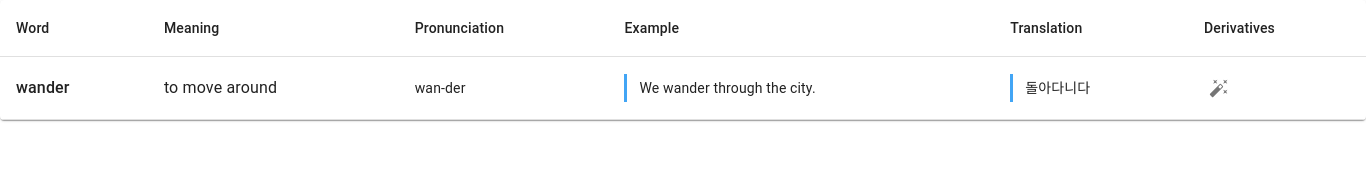
WordTable pronunciation inline editing › exposes Edit in the context menu for pronunciation cells
The width and height of the screenshot is (1366, 170).
Right-click the cell "wan-der" at (504, 88), box [399,56,608,120]
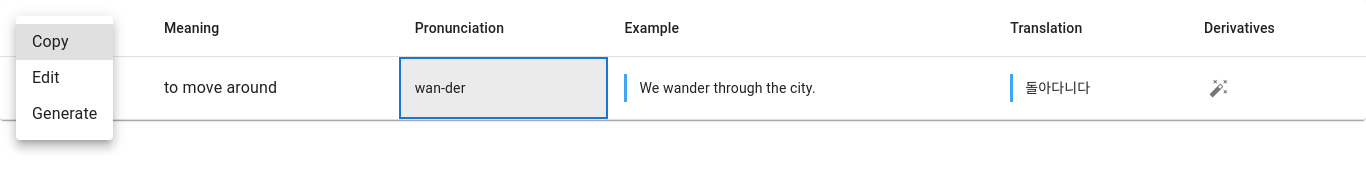
Result: the text "Edit" is shown at [32,68,60,87]
